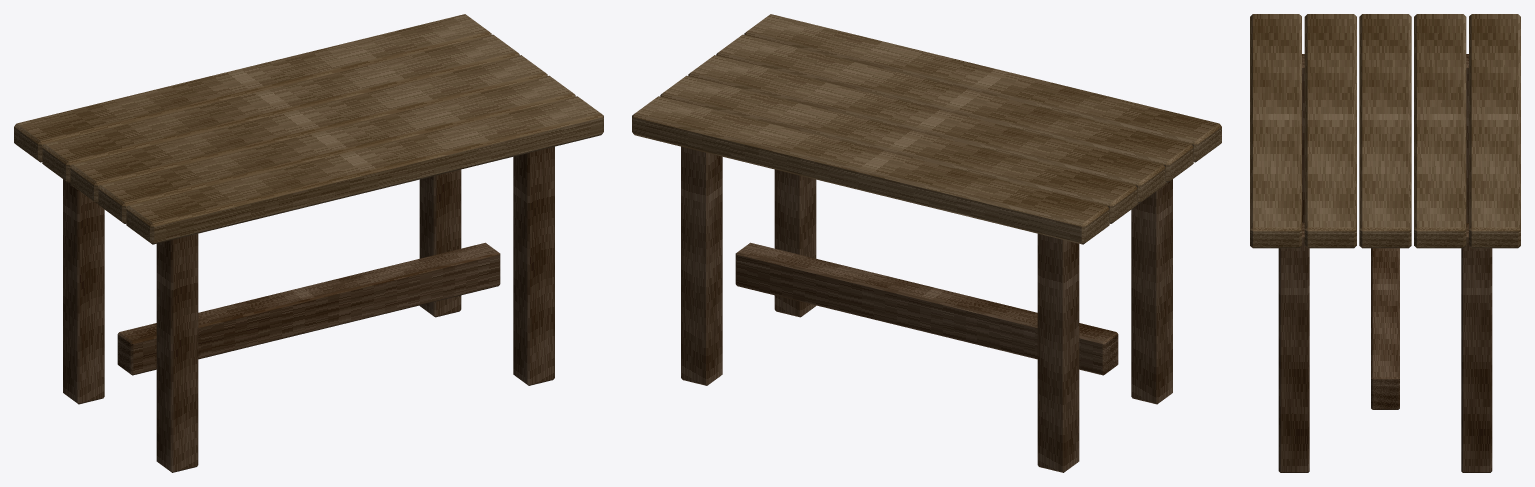
Rendered from mesa.glb.
3 views of the same model, side by side, from view 1: azimuth 30°, elevation 25°; view 2: azimuth 150°, elevation 25°; view 3: azimuth 270°, elevation 25° (orthographic). The views are drawn at different scales.
Parts seen in each view (by area): view 1: mesa_mesh; view 2: mesa_mesh; view 3: mesa_mesh.
Boxes of the visible parts, x1,y1,x2,y2 form: mesa_mesh: (14,14,603,472); mesa_mesh: (632,14,1221,472); mesa_mesh: (1250,14,1520,472).
Size of the model in its own units: 1.4 by 0.792 by 0.743.
2 materials, 2 textured.
